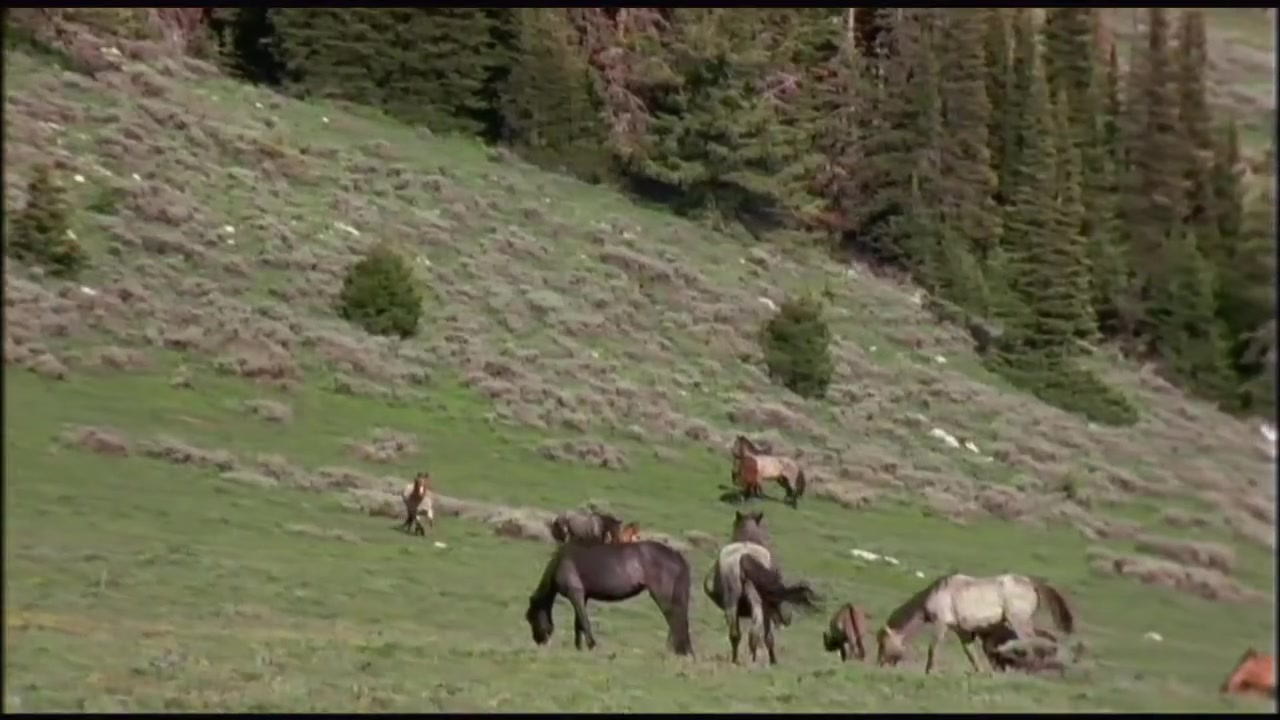horse: (525, 538, 696, 662)
